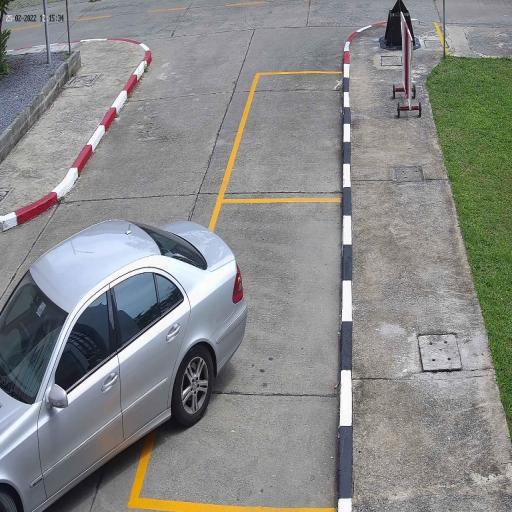car: (0, 217, 250, 512)
